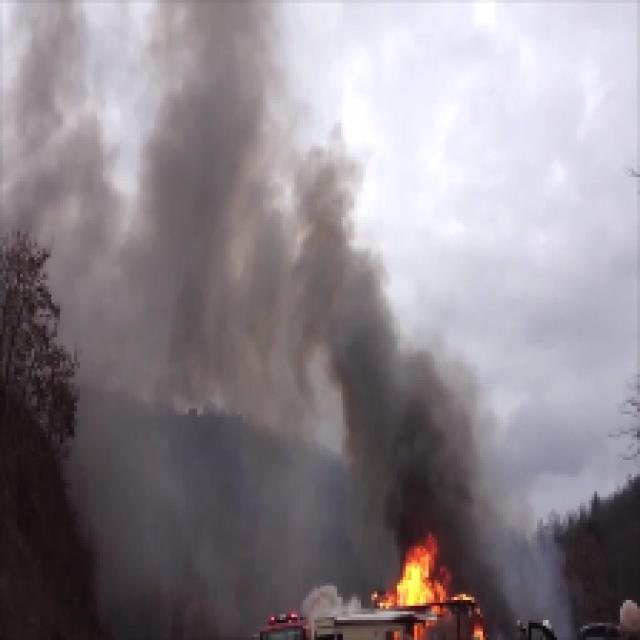Fire: (387, 540, 435, 602)
Smoke: (156, 104, 252, 358), (364, 366, 462, 529), (265, 208, 365, 362)
